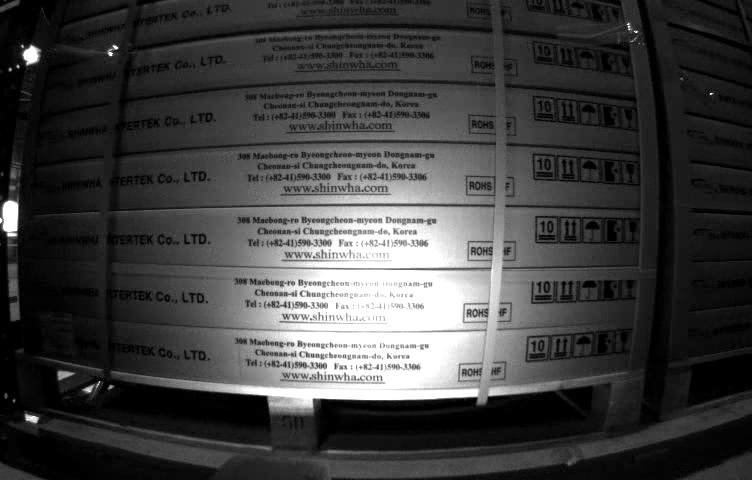True Barcode: (41, 311, 73, 359)
